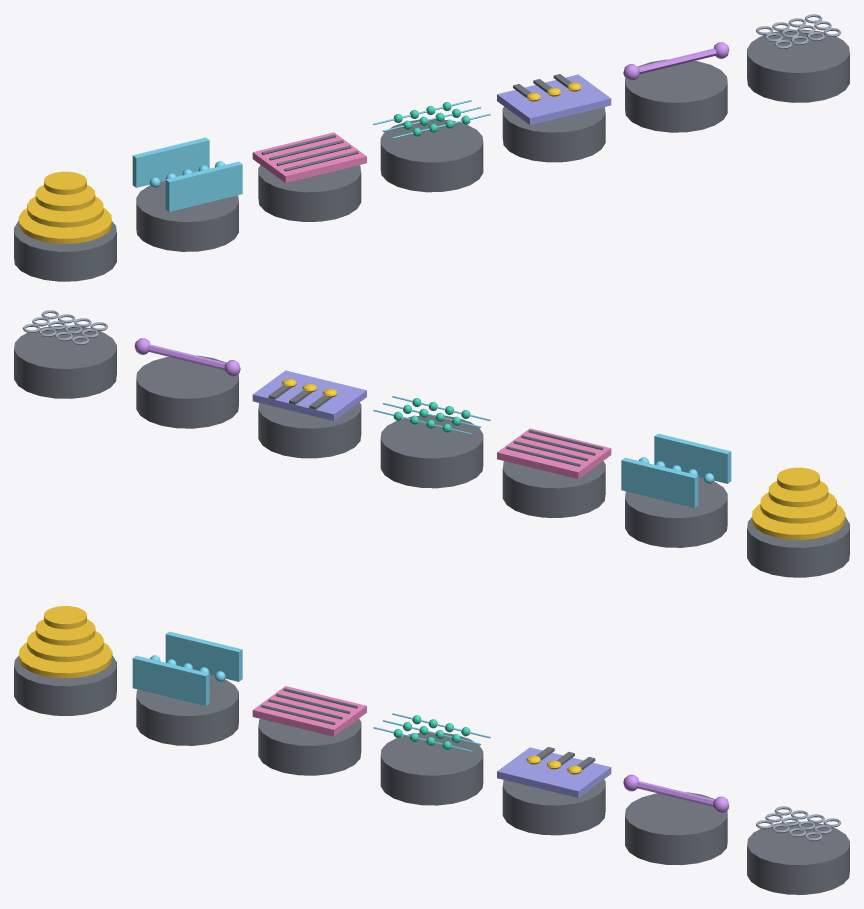
Rendered from qc_architectures_gallery.glb.
3 views of the same model, one above another, from view 1: azimuth 30°, elevation 25°; view 2: azimuth 150°, elevation 25°; view 3: azimuth 330°, elevation 25° (orthographic).
Parts seen in each view (by area): view 1: trapped-ion, superconducting-transmon, photonic, silicon-spin, neutral-atom, quantum-annealer, topological; view 2: trapped-ion, superconducting-transmon, photonic, silicon-spin, neutral-atom, quantum-annealer, topological; view 3: trapped-ion, superconducting-transmon, photonic, silicon-spin, neutral-atom, quantum-annealer, topological.
Boxes of the visible parts, left/top/right/bottom form: trapped-ion: left=132, top=137, right=242, bottom=251; superconducting-transmon: left=14, top=171, right=116, bottom=281; photonic: left=252, top=132, right=366, bottom=221; silicon-spin: left=497, top=74, right=611, bottom=162; neutral-atom: left=373, top=100, right=490, bottom=192; quantum-annealer: left=747, top=14, right=849, bottom=102; topological: left=623, top=42, right=729, bottom=132; trapped-ion: left=621, top=433, right=731, bottom=547; superconducting-transmon: left=747, top=467, right=849, bottom=577; photonic: left=497, top=428, right=611, bottom=517; silicon-spin: left=252, top=370, right=366, bottom=458; neutral-atom: left=373, top=396, right=490, bottom=488; quantum-annealer: left=14, top=310, right=116, bottom=398; topological: left=134, top=338, right=240, bottom=428; trapped-ion: left=132, top=631, right=242, bottom=745; superconducting-transmon: left=14, top=606, right=116, bottom=715; photonic: left=252, top=686, right=366, bottom=775; silicon-spin: left=497, top=747, right=611, bottom=835; neutral-atom: left=373, top=713, right=490, bottom=805; quantum-annealer: left=747, top=806, right=849, bottom=894; topological: left=623, top=774, right=729, bottom=865.
Size of the model in its own units: 1.01 by 0.093 by 0.11.
